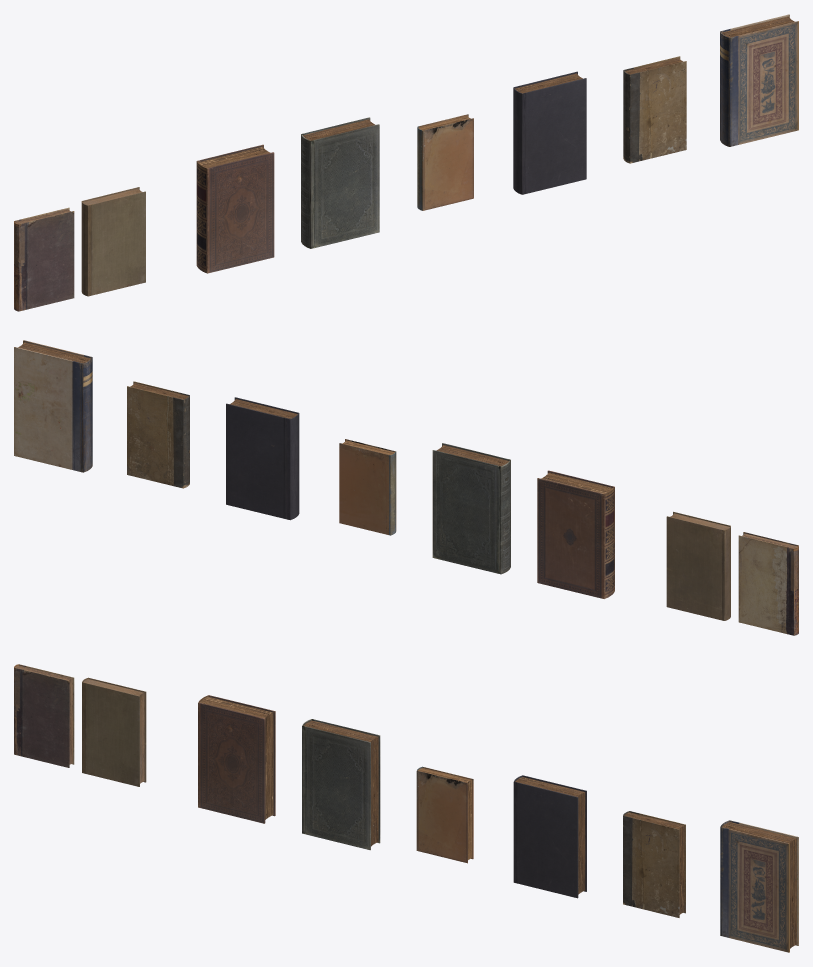
Rendered from books_1.FBX.
3 renders of one model, top to bottom at view 1: azimuth 30°, elevation 25°; view 2: azimuth 150°, elevation 25°; view 3: azimuth 330°, elevation 25°, orthographic.
Visible parts, largest first — view 1: book_noname_8, book_noname_4, book_noname_3, book_noname_6, book_noname_2, book_noname_7, book_noname_1, book_noname_5; view 2: book_noname_8, book_noname_4, book_noname_3, book_noname_6, book_noname_2, book_noname_7, book_noname_1, book_noname_5; view 3: book_noname_8, book_noname_4, book_noname_3, book_noname_6, book_noname_2, book_noname_7, book_noname_1, book_noname_5.
Part boxes in pixels (x1=…): book_noname_8: x1=720, y1=14, x2=798, y2=146; book_noname_4: x1=301, y1=117, x2=379, y2=248; book_noname_3: x1=196, y1=144, x2=274, y2=273; book_noname_6: x1=513, y1=71, x2=586, y2=194; book_noname_2: x1=81, y1=187, x2=145, y2=296; book_noname_7: x1=623, y1=56, x2=686, y2=163; book_noname_1: x1=14, y1=207, x2=74, y2=311; book_noname_5: x1=417, y1=114, x2=473, y2=210; book_noname_8: x1=14, y1=340, x2=92, y2=472; book_noname_4: x1=432, y1=443, x2=510, y2=574; book_noname_3: x1=537, y1=470, x2=614, y2=598; book_noname_6: x1=226, y1=397, x2=299, y2=520; book_noname_2: x1=666, y1=511, x2=730, y2=620; book_noname_7: x1=127, y1=381, x2=189, y2=488; book_noname_1: x1=738, y1=532, x2=798, y2=635; book_noname_5: x1=339, y1=439, x2=396, y2=535; book_noname_8: x1=720, y1=820, x2=798, y2=952; book_noname_4: x1=302, y1=719, x2=380, y2=850; book_noname_3: x1=198, y1=695, x2=275, y2=823; book_noname_6: x1=513, y1=775, x2=586, y2=898; book_noname_2: x1=82, y1=677, x2=146, y2=786; book_noname_7: x1=623, y1=811, x2=685, y2=917; book_noname_1: x1=14, y1=664, x2=74, y2=767; book_noname_5: x1=416, y1=766, x2=473, y2=863.
Size of the model in its own units: 223 by 29.79 by 5.43.
Materials: 1 (1 with a texture image).
